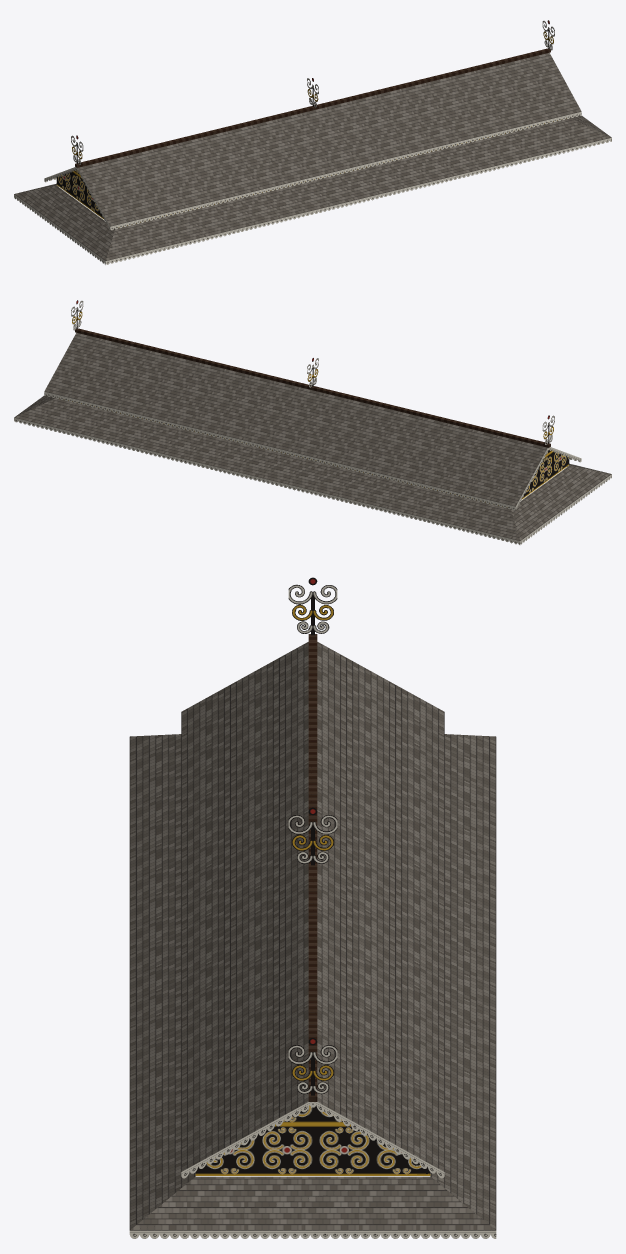
File: atap.glb
3 renders of one model, top to bottom at view 1: azimuth 30°, elevation 25°; view 2: azimuth 150°, elevation 25°; view 3: azimuth 270°, elevation 25°, orthographic. The views are drawn at different scales.
Parts seen in each view (by area): view 1: Atap_Atas, Atap_Bawah, Lisplang_Renda, Bubungan, Gable_Motif, Ornamen_Bubungan; view 2: Atap_Atas, Atap_Bawah, Lisplang_Renda, Bubungan, Gable_Motif, Ornamen_Bubungan; view 3: Atap_Atas, Atap_Bawah, Gable_Motif, Lisplang_Renda, Ornamen_Bubungan, Bubungan.
Boxes of the visible parts, x1=… form: Atap_Atas: x1=78, y1=52, x2=581, y2=226; Atap_Bawah: x1=14, y1=114, x2=611, y2=260; Lisplang_Renda: x1=14, y1=111, x2=611, y2=264; Bubungan: x1=75, y1=48, x2=550, y2=167; Gable_Motif: x1=57, y1=169, x2=103, y2=219; Ornamen_Bubungan: x1=71, y1=20, x2=554, y2=165; Atap_Atas: x1=44, y1=332, x2=547, y2=506; Atap_Bawah: x1=14, y1=394, x2=611, y2=540; Lisplang_Renda: x1=14, y1=391, x2=611, y2=544; Bubungan: x1=75, y1=328, x2=550, y2=447; Gable_Motif: x1=522, y1=449, x2=568, y2=499; Ornamen_Bubungan: x1=71, y1=300, x2=554, y2=445; Atap_Atas: x1=181, y1=642, x2=444, y2=1171; Atap_Bawah: x1=129, y1=734, x2=496, y2=1230; Gable_Motif: x1=195, y1=1105, x2=430, y2=1175; Lisplang_Renda: x1=129, y1=1102, x2=496, y2=1238; Ornamen_Bubungan: x1=288, y1=577, x2=337, y2=1095; Bubungan: x1=308, y1=634, x2=317, y2=1101.
Size of the model in its own units: 40.8 by 7.25 by 12.8.
5 materials, 5 textured.
